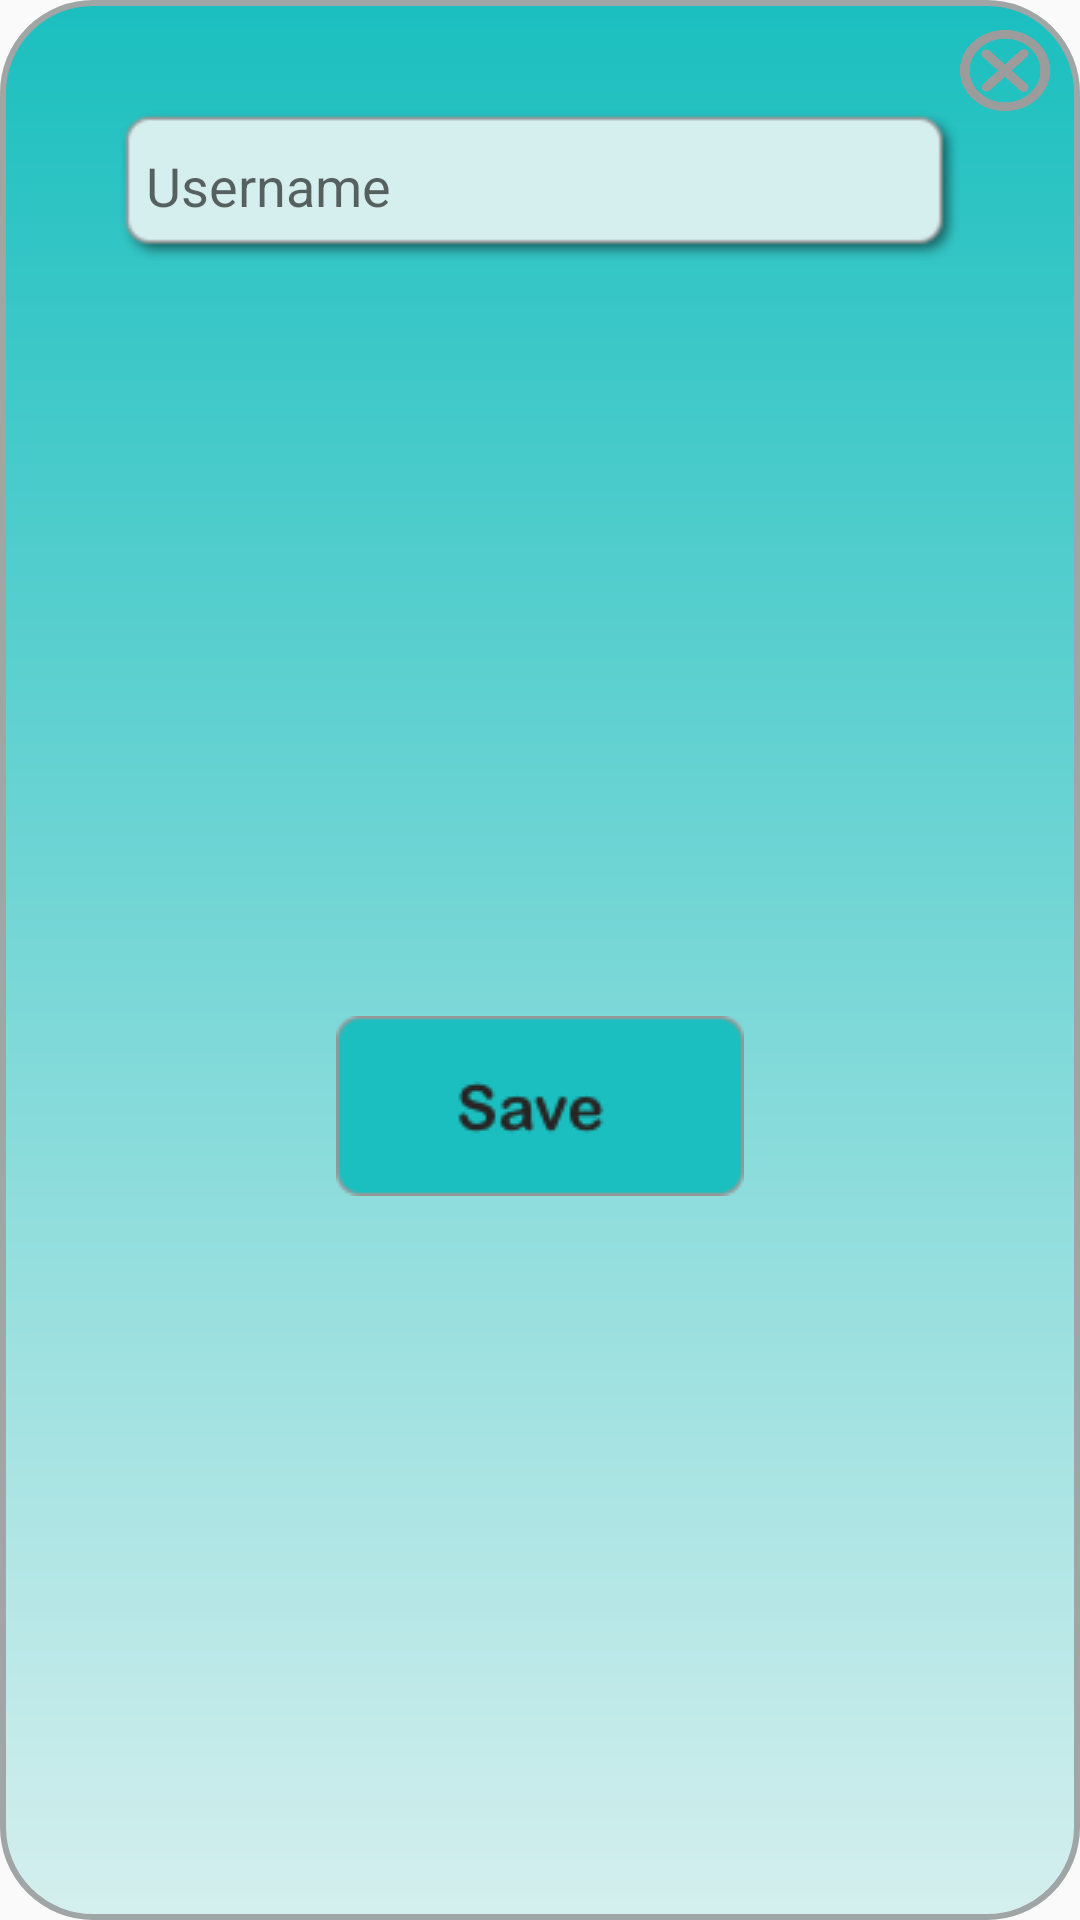

Named icons in this screenshot (1080 x 1920) and their bounding boxes, {"left": x1, "top": y1, "right": x2, "bottom": y2}:
exit: {"left": 960, "top": 30, "right": 1050, "bottom": 111}
